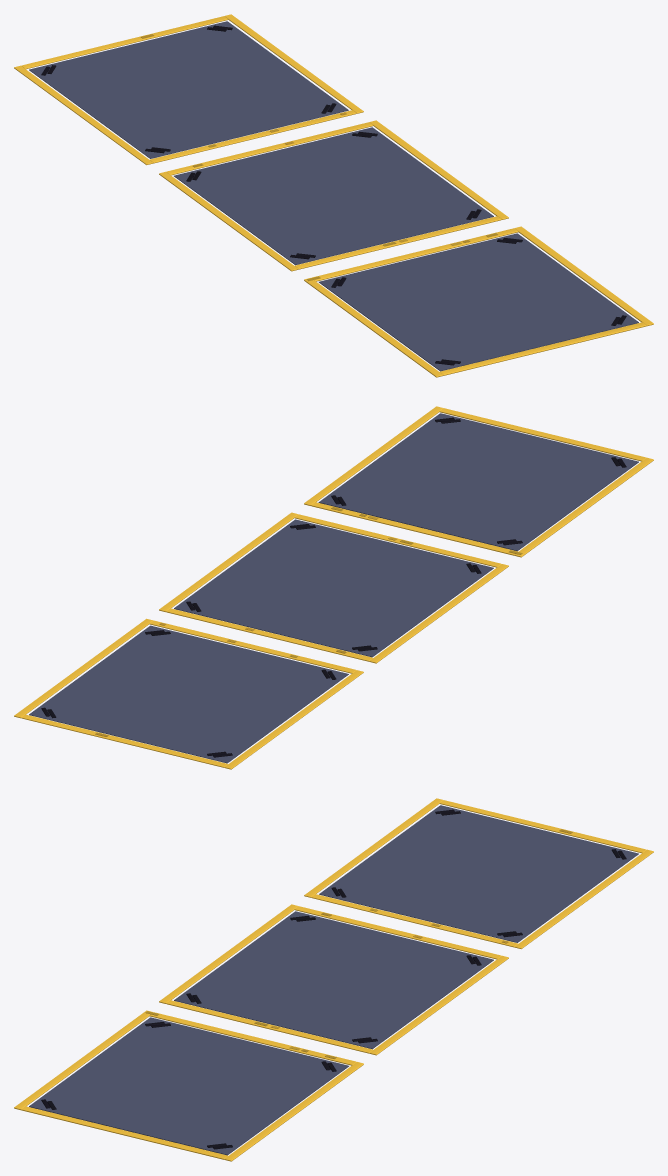
Rendered from SM_Deco_DeliveryBay_Lobby.fbx.
3 views of the same model, one above another, from view 1: azimuth 30°, elevation 25°; view 2: azimuth 150°, elevation 25°; view 3: azimuth 330°, elevation 25° (orthographic).
Parts seen in each view (by area): view 1: SM_Deco_DeliveryBay_Lobby; view 2: SM_Deco_DeliveryBay_Lobby; view 3: SM_Deco_DeliveryBay_Lobby.
Part boxes in pixels (x1,y1,x2,y2): SM_Deco_DeliveryBay_Lobby: [14, 14, 653, 377]; SM_Deco_DeliveryBay_Lobby: [14, 406, 653, 769]; SM_Deco_DeliveryBay_Lobby: [14, 798, 653, 1161].
Size of the model in its own units: 182 by 1.47 by 612.
